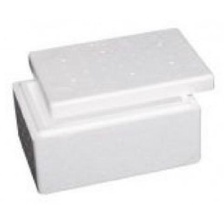foam_box: (7, 22, 218, 198)
